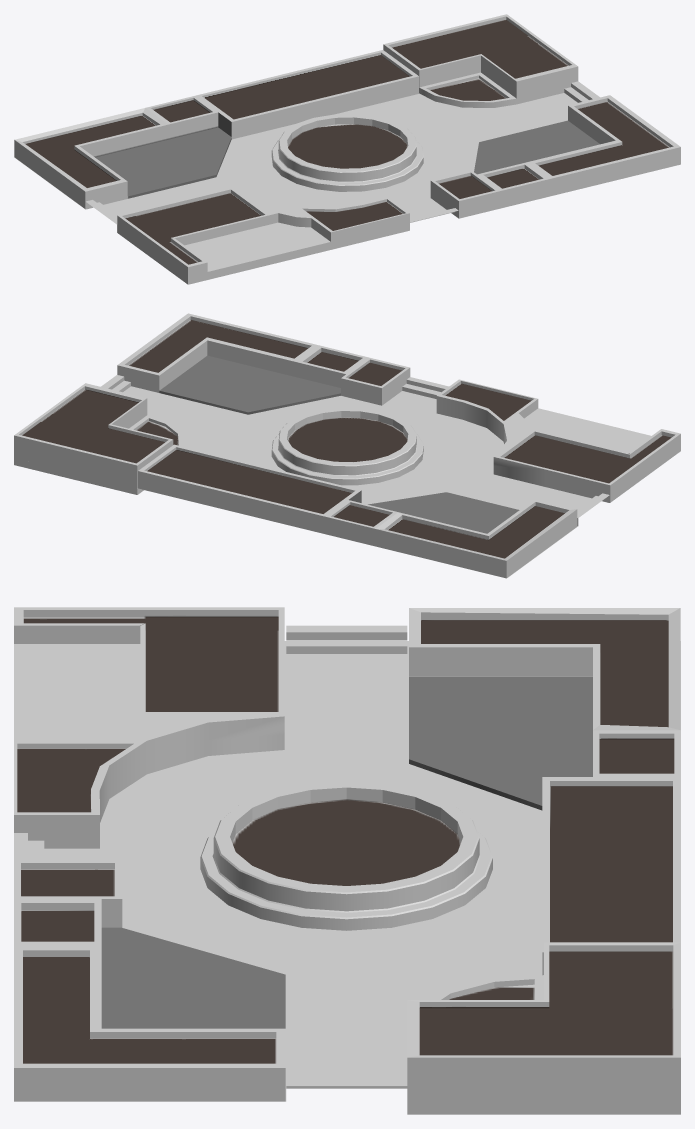
Rendered from BgMD_Yoshinuma_Fukinuke_0101.fbx.
The picture shows the model from 3 angles, top to bottom: view 1: azimuth 30°, elevation 25°; view 2: azimuth 150°, elevation 25°; view 3: azimuth 270°, elevation 25°; orthographic projection. The views are drawn at different scales.
Parts seen in each view (by area): view 1: polySurface5; view 2: polySurface5; view 3: polySurface5.
Boxes of the visible parts, left/top/right/bottom form: polySurface5: left=14, top=14, right=680, bottom=284; polySurface5: left=14, top=313, right=680, bottom=578; polySurface5: left=14, top=607, right=680, bottom=1114.
Bounding box in the file's own units: 3210 × 184 × 1965.
